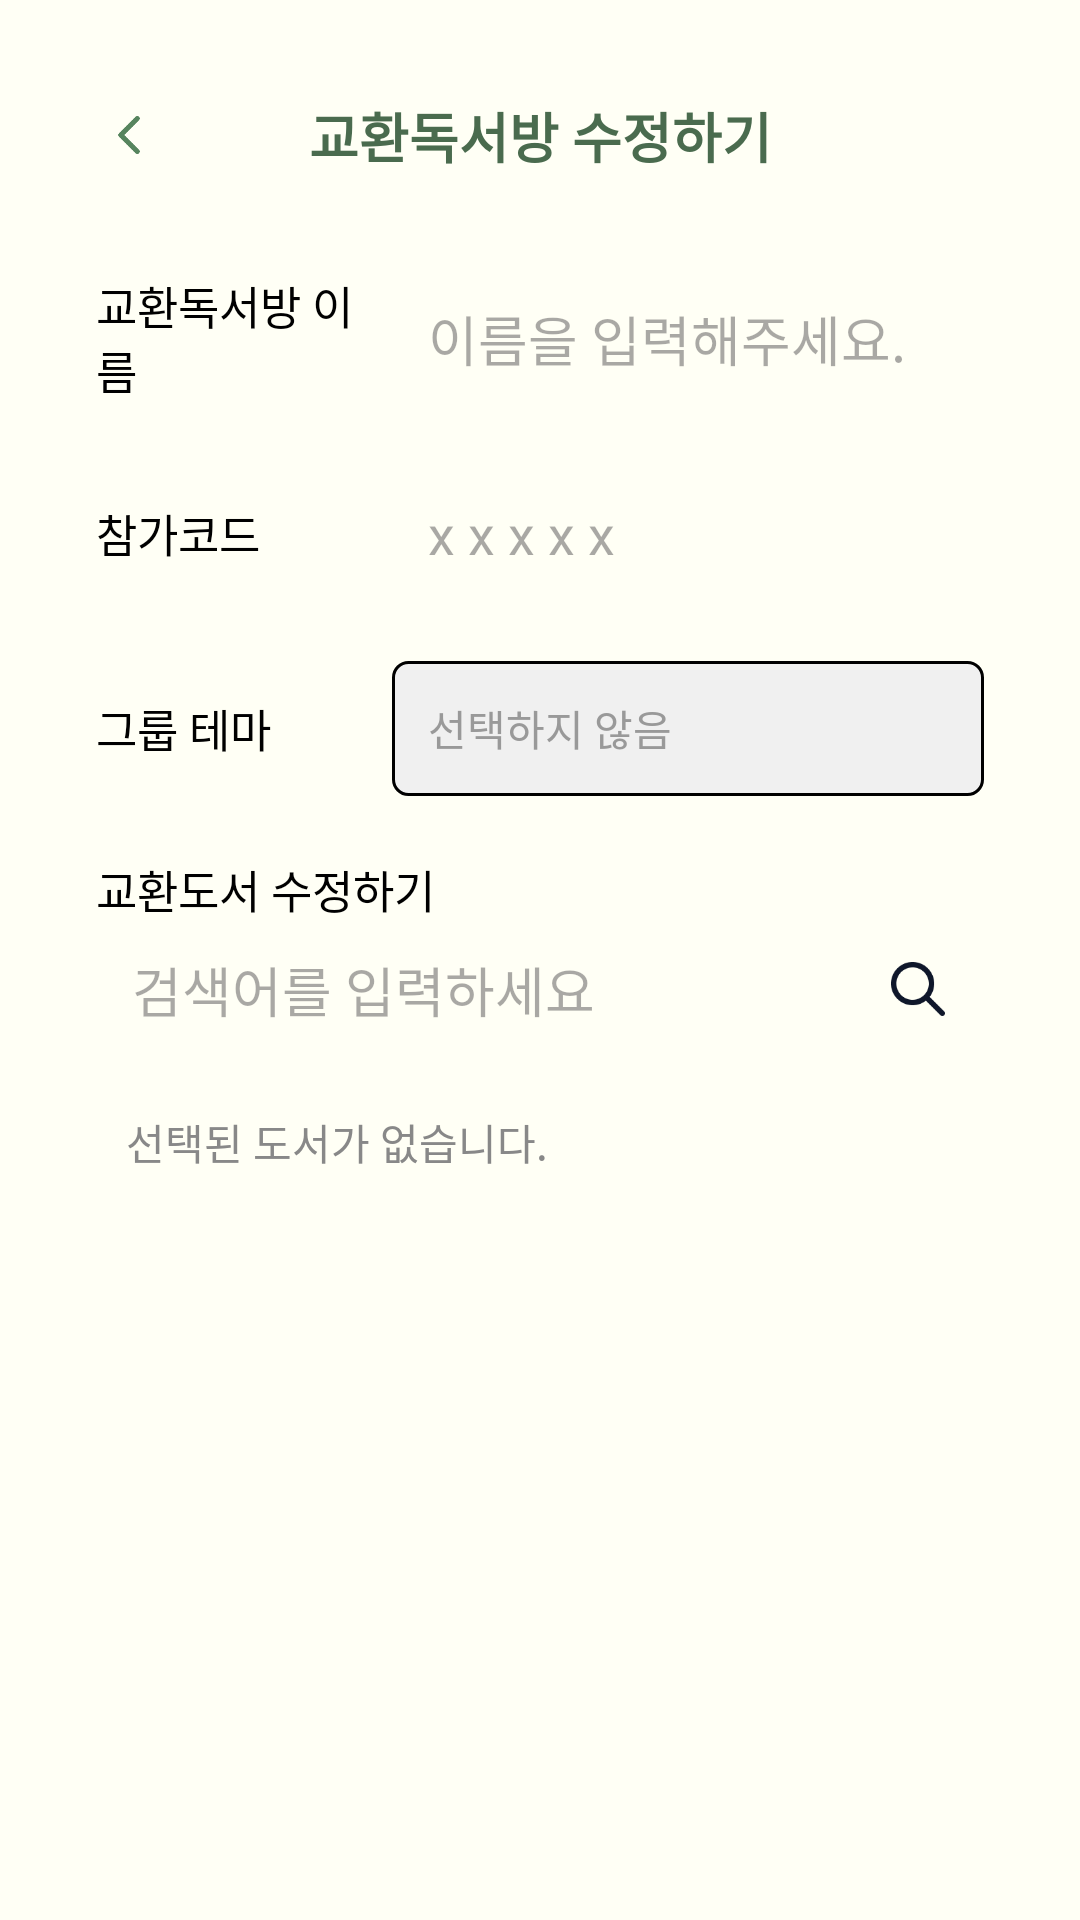

Point at icon controls on the screen. Image size 1080w x 1920h, points as [x,y].
arrow back: [129,135]
search: [918,989]
